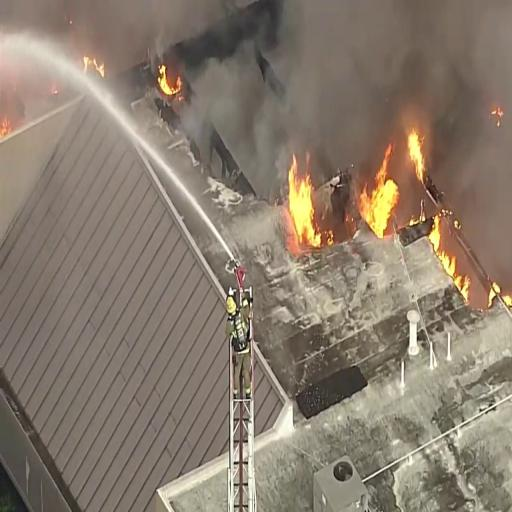fire: (360, 155, 402, 246), (279, 158, 320, 250)
smoke: (206, 0, 436, 107)
